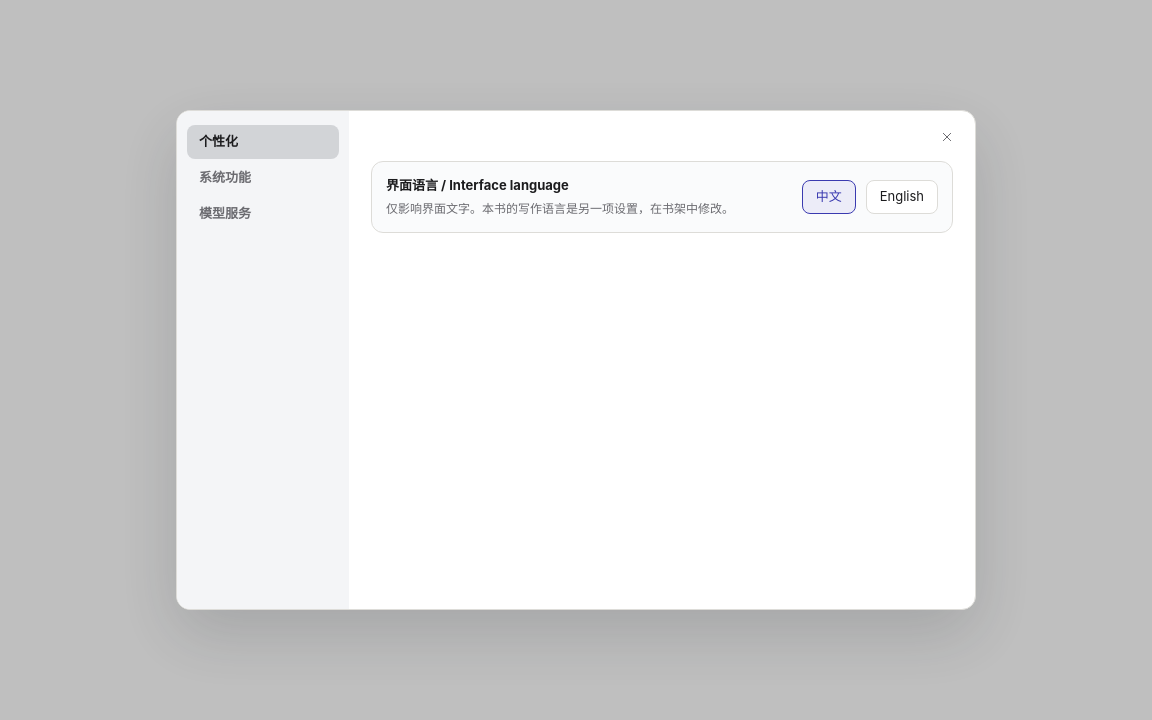
Scenario: AI 设置（BYOK） › 用自然语言说明已保存的地址、模型和密钥
The width and height of the screenshot is (1152, 720).
Click the tab "模型服务" at coordinates (263, 214), box left=187, top=197, right=339, bottom=231
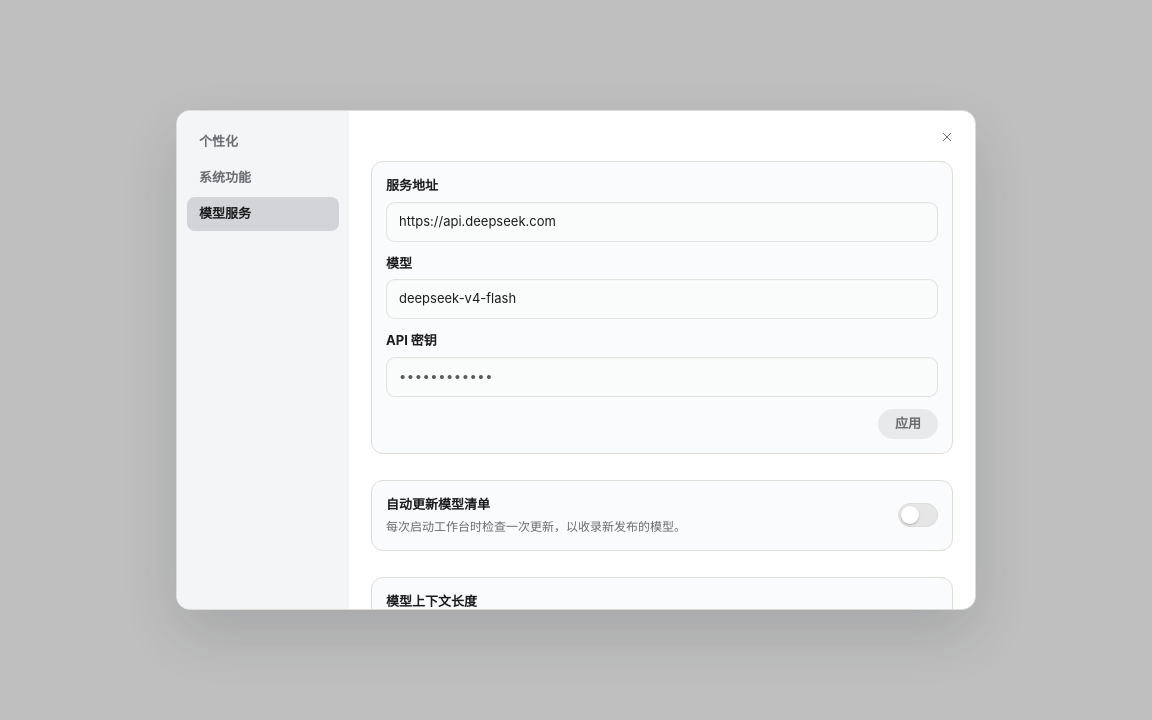
Expected: the field showing "https://api.deepseek.com" is shown, left=386, top=202, right=938, bottom=242
Expected: the field showing "deepseek-v4-flash" is shown, left=386, top=279, right=938, bottom=319
Expected: the text "API 密钥" is shown, left=386, top=332, right=437, bottom=348
